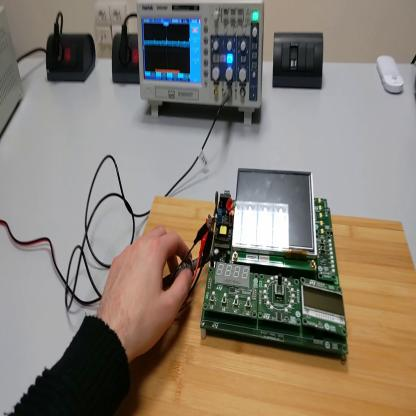hand: (98, 225, 200, 353)
low voltage board: (199, 169, 344, 362)
oscilloscope: (136, 1, 266, 131)
oscilloscope probe tip: (159, 246, 224, 293)
power supply: (1, 1, 25, 144)
socket: (46, 32, 98, 84), (112, 33, 141, 86)
working area: (115, 196, 416, 416)
